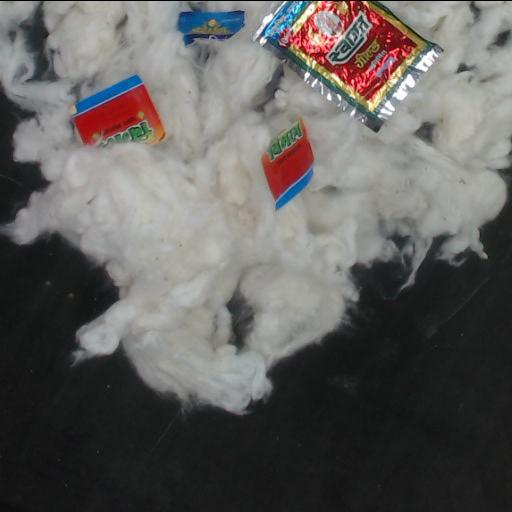conveyor belt: (0, 187, 511, 512), (0, 89, 46, 223), (25, 10, 48, 78), (228, 297, 252, 343)
cotton: (0, 1, 511, 414)
packet: (253, 1, 442, 131), (73, 74, 165, 144), (262, 121, 313, 208), (177, 9, 245, 45)
